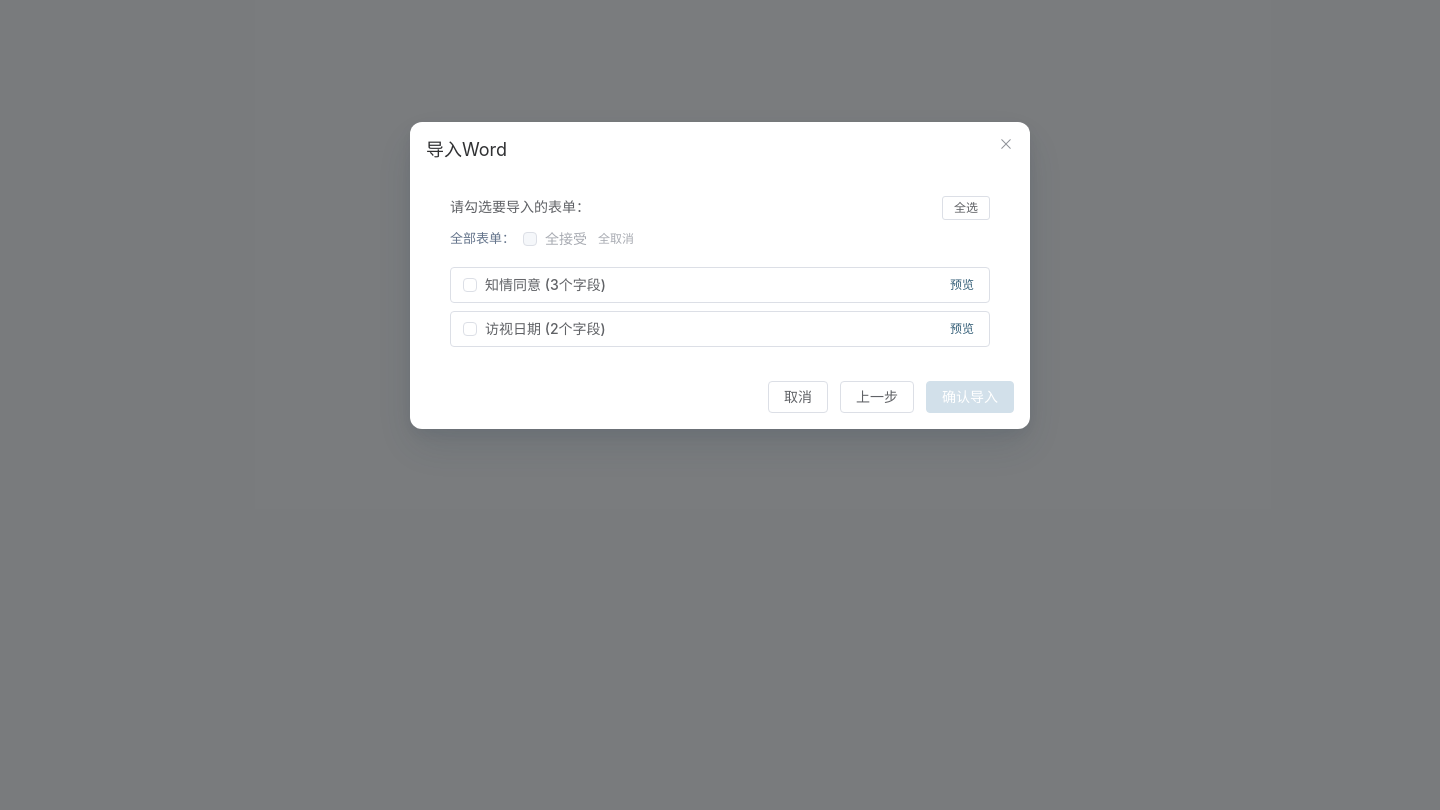
WordImportDialog › 导入失败停留在第 2 步并展示错误信息
The width and height of the screenshot is (1440, 810).
Click the button "全选".
click(966, 208)  # box [942,196,990,220]
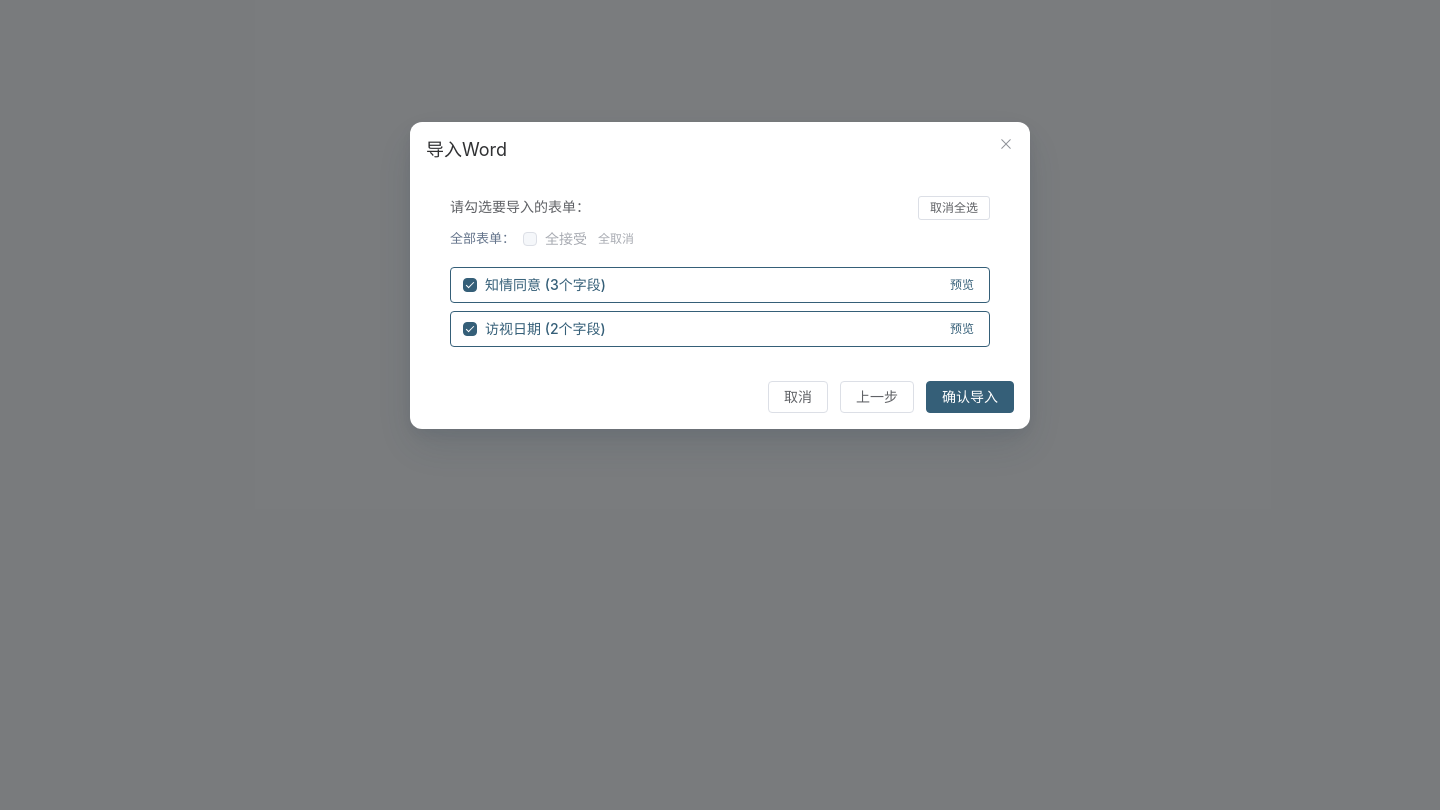
Click the button "确认导入".
click(970, 396)  # box [926,380,1014,412]
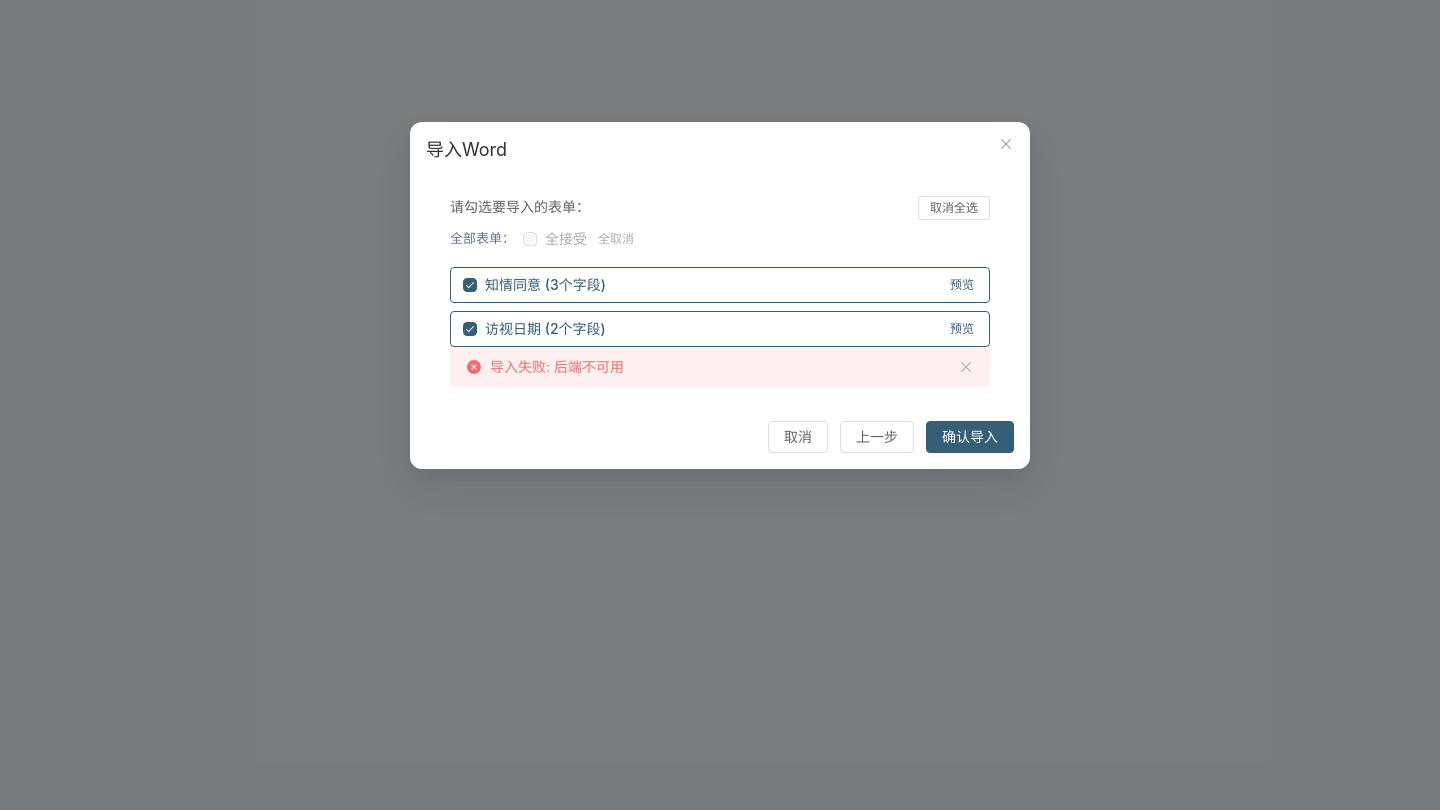
Expected: the number of checkboxes with class "docx-form-checkbox" is 2, [450,266,990,302]; [450,310,990,346]
Expected: the text "导入失败: 后端不可用" is shown, [490,354,624,378]
